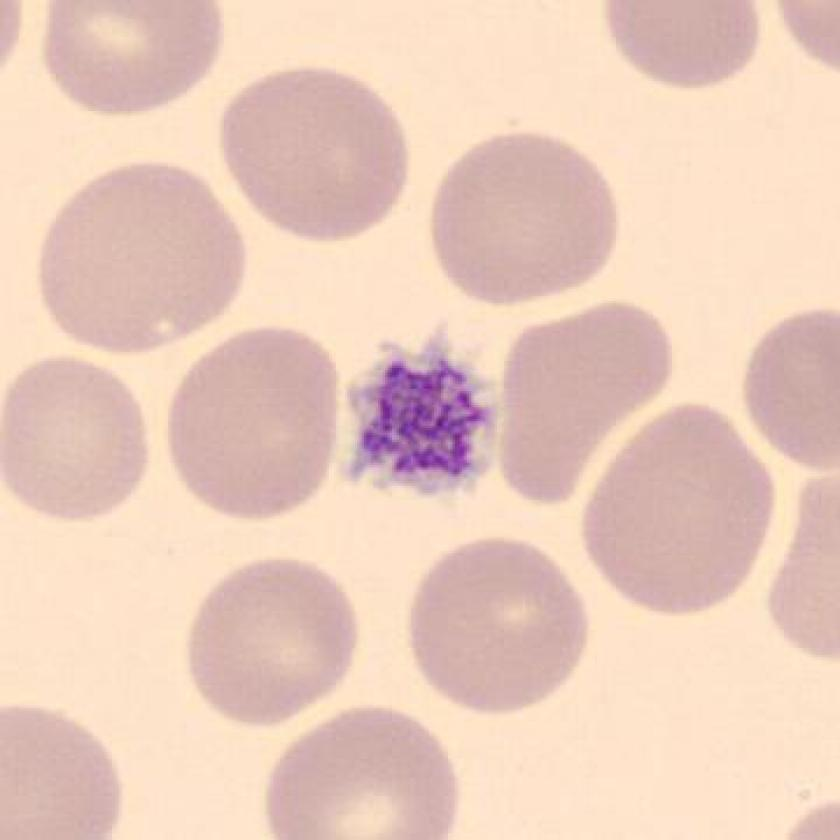platelets: (332, 323, 510, 510)
